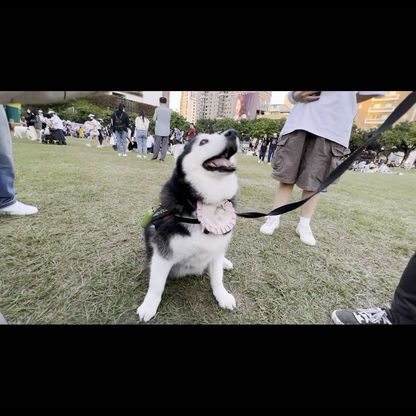husky: (131, 125, 243, 321)
